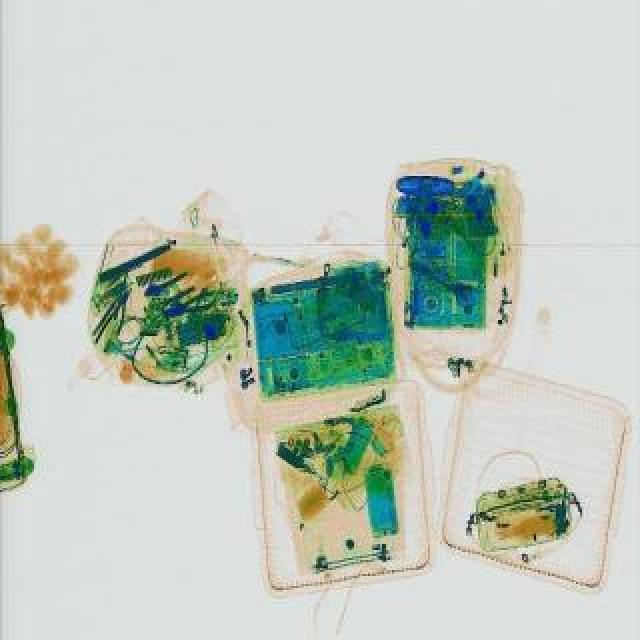scissors: (140, 264, 188, 298)
wrench: (98, 282, 138, 346), (160, 288, 218, 324)
